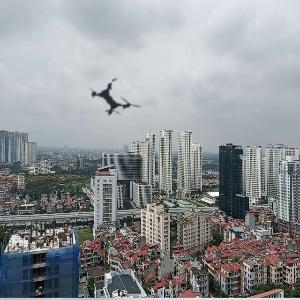drone: (70, 56, 158, 144)
